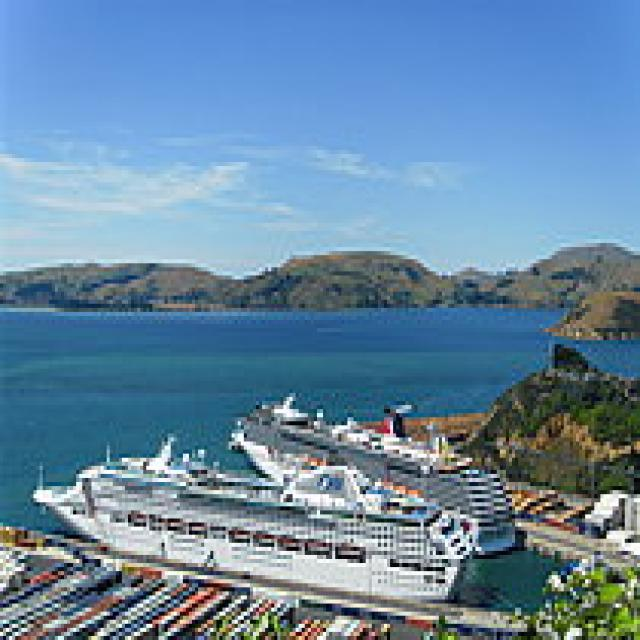Ship: (56, 463, 452, 588)
